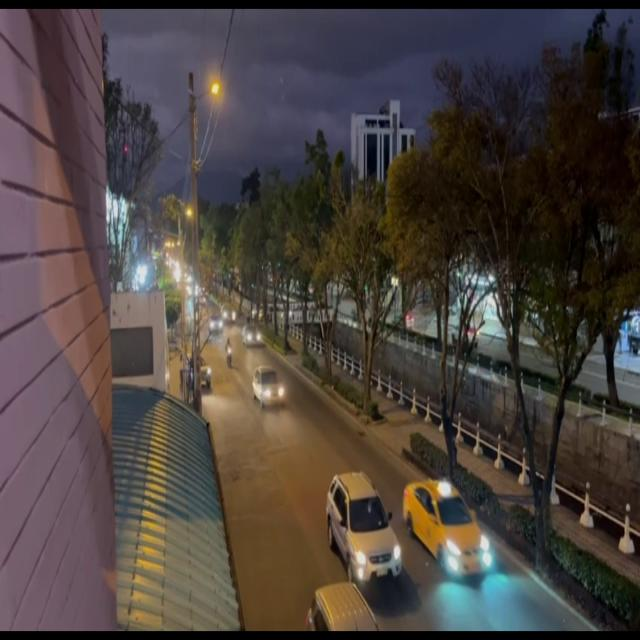SED: (406, 488, 484, 578)
SUV: (330, 478, 398, 580)
